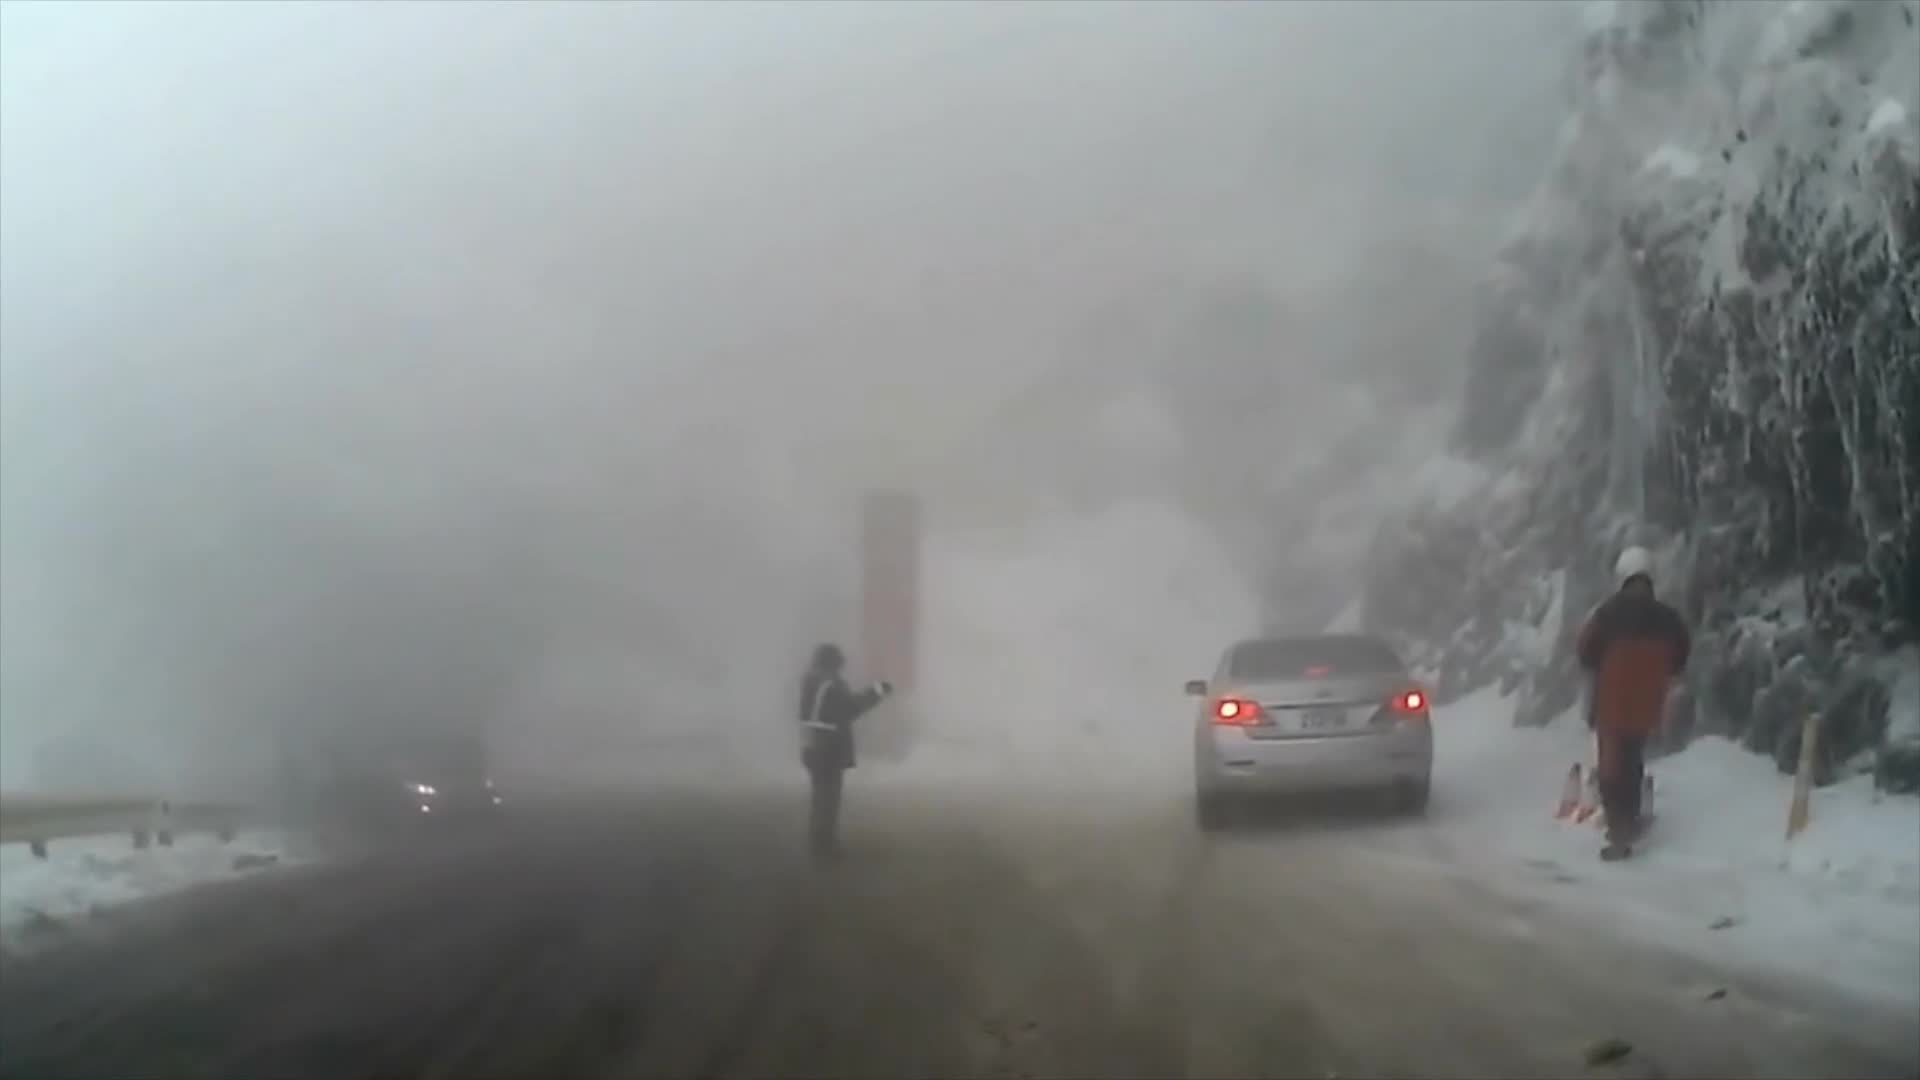pedestrian: (1579, 543, 1692, 862), (798, 646, 896, 861)
vehicle: (1184, 630, 1435, 832)
